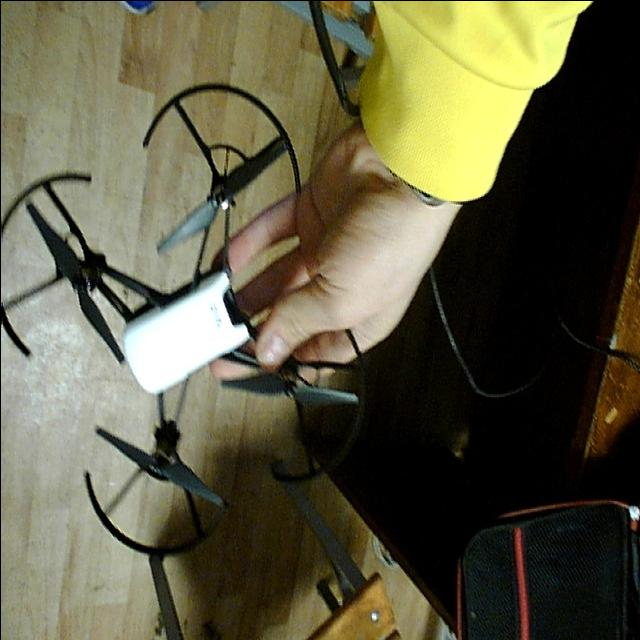drone: (0, 76, 370, 564)
